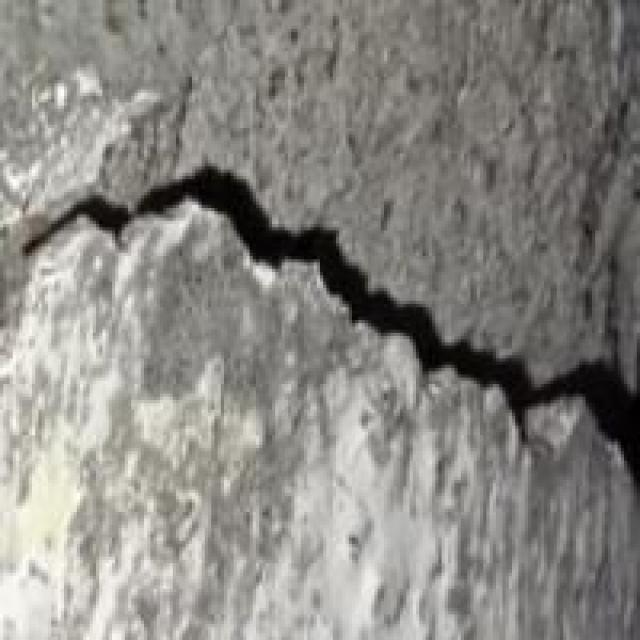crack: (3, 154, 637, 476)
